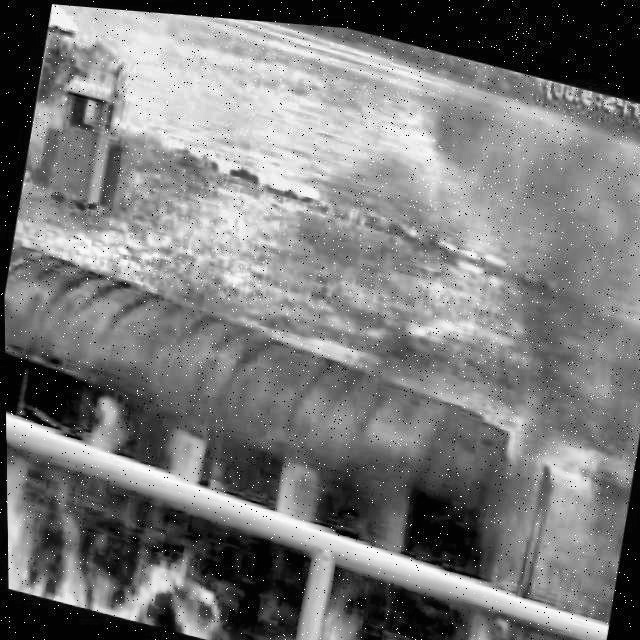Fire: (5, 464, 242, 640), (250, 440, 421, 549), (72, 407, 208, 487), (289, 558, 369, 640), (448, 590, 530, 640)
Smoke: (276, 35, 640, 489)
